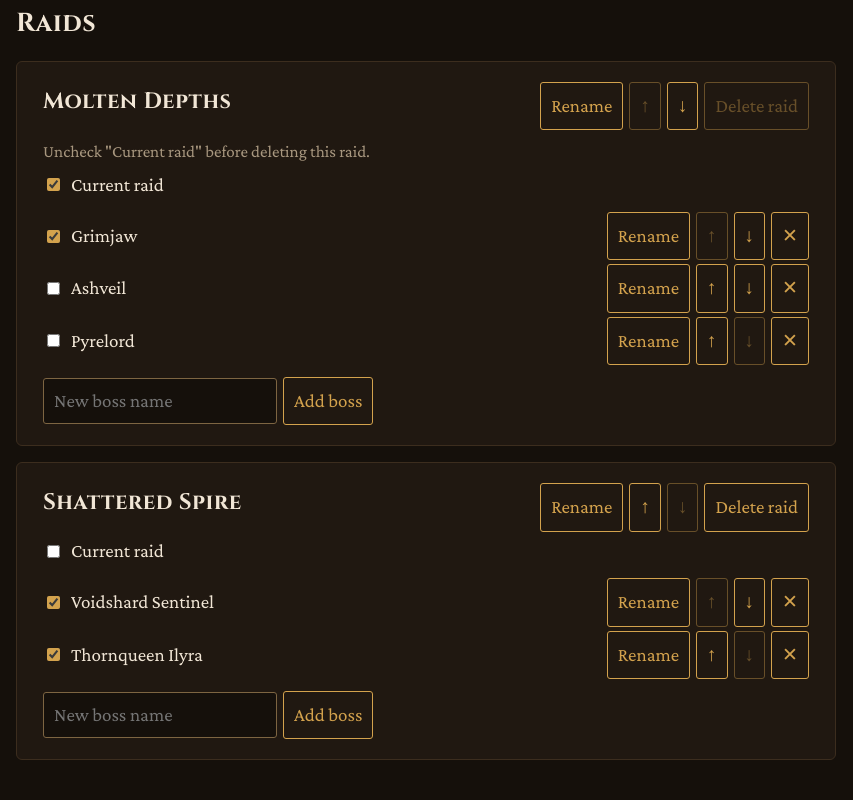
Test: OfficerRaidProgress › should show the API error message when deleting a tier is rejected
(page scrolled)
Click the button with aria-label "Delete Shattered Spire". click: (757, 508)
box: [704, 484, 809, 532]
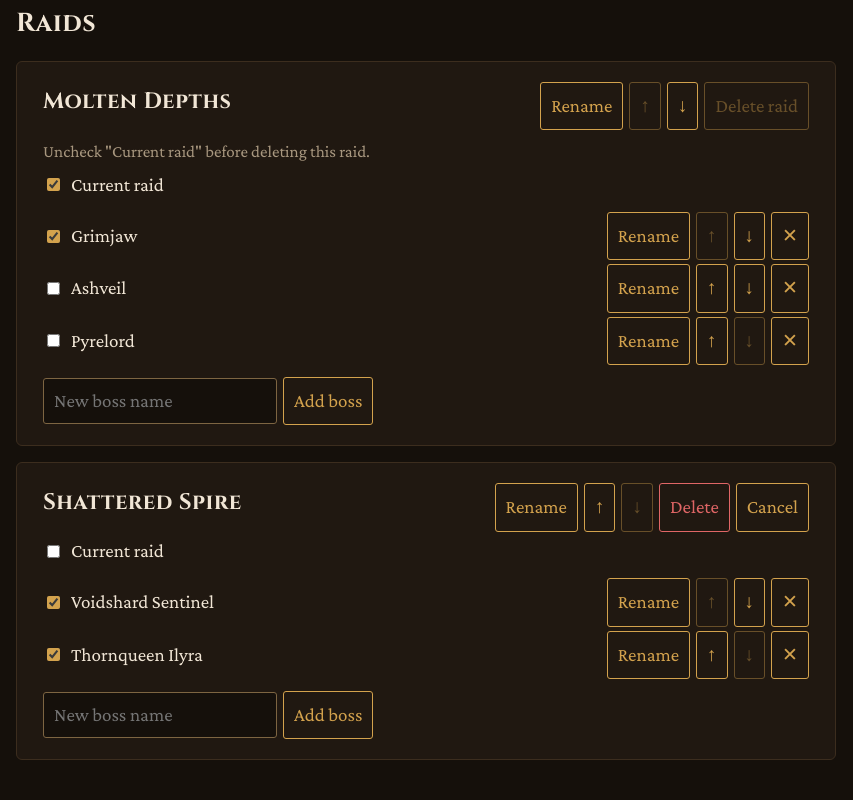
Click the button with aria-label "Confirm delete Shattered Spire". click: (694, 508)
box: [659, 484, 730, 532]
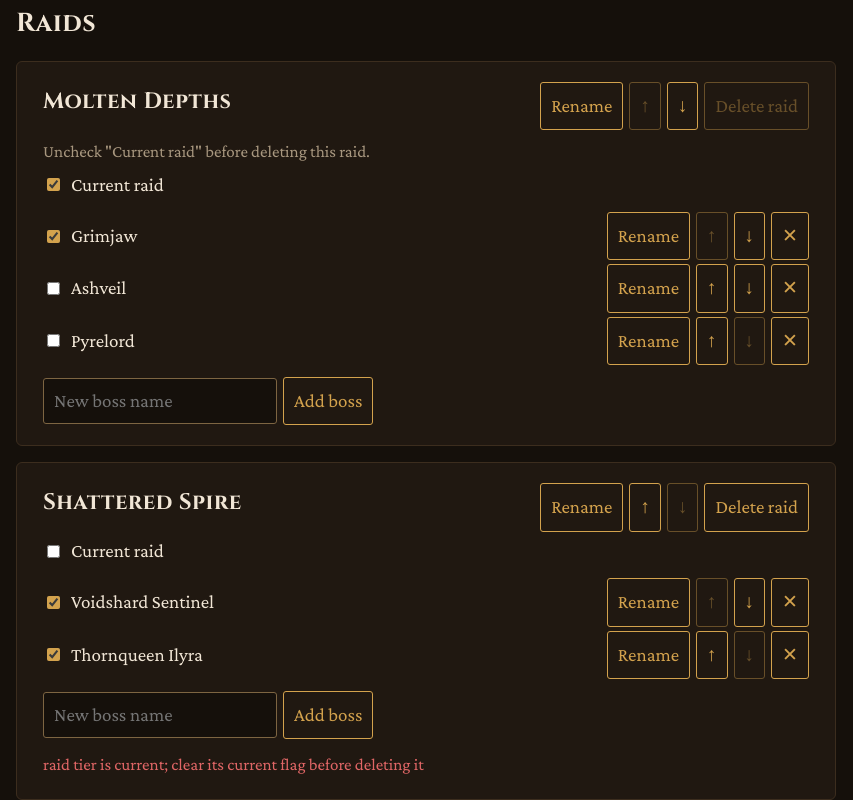
Expected: the message reads "raid tier is current; clear its current flag before deleting it", [43, 755, 424, 774]
